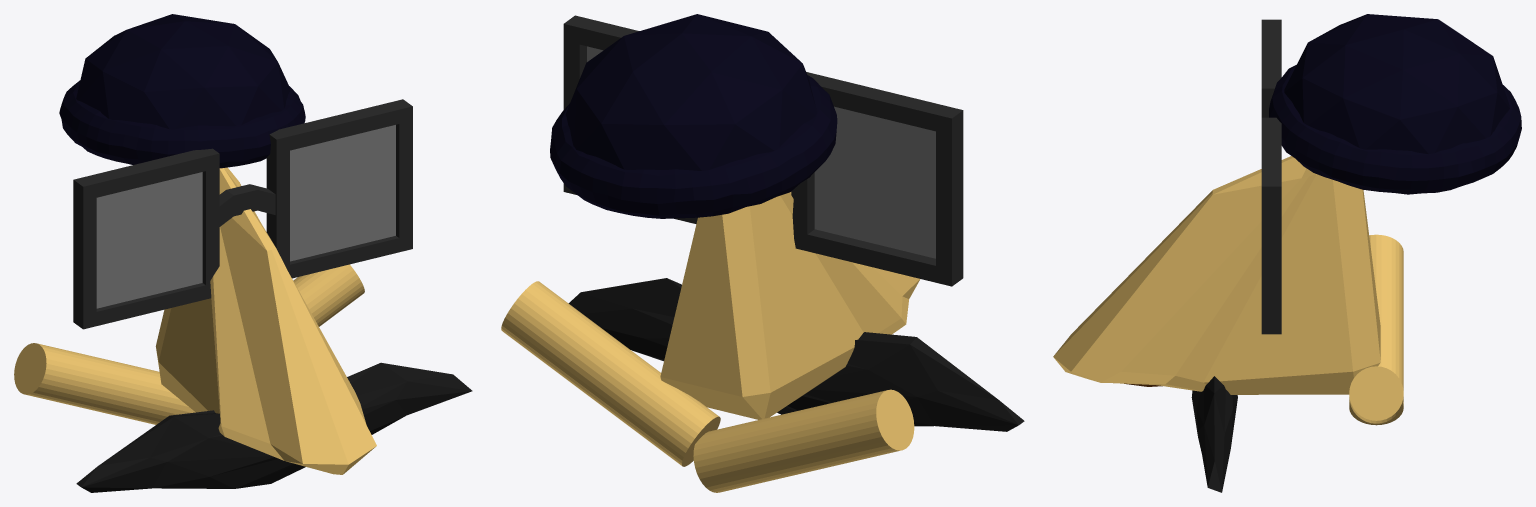
Rendered from MrPotatoMan.fbx.
3 views of the same model, side by side, from view 1: azimuth 30°, elevation 25°; view 2: azimuth 150°, elevation 25°; view 3: azimuth 270°, elevation 25° (orthographic). The views are drawn at different scales.
Visible parts, largest first — view 1: Icosphere, Cube.002, Icosphere.001, Torus, Cylinder.001, Cylinder; view 2: Icosphere, Cube.002, Icosphere.001, Torus, Cylinder, Cylinder.001; view 3: Icosphere, Icosphere.001, Torus, Cube.002, Cylinder.001, Cylinder.
Part boxes in pixels (x1,y1,x2,y2): Icosphere: (76,167,472,492); Cube.002: (73,99,412,329); Icosphere.001: (76,14,290,129); Torus: (59,80,305,168); Cylinder.001: (14,343,195,424); Cylinder: (293,264,364,326); Icosphere: (568,192,1024,431); Cube.002: (563,15,963,286); Icosphere.001: (565,14,817,170); Torus: (550,75,837,218); Cylinder: (501,281,720,466); Cylinder.001: (693,389,914,492); Icosphere: (1053,156,1380,492); Icosphere.001: (1284,14,1509,153); Torus: (1269,65,1521,194); Cube.002: (1261,19,1281,334); Cylinder.001: (1349,234,1403,425); Cylinder: (1349,366,1403,423).
Size of the model in its own units: 188 by 181 by 188.
